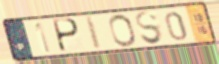0: (163, 11, 190, 42)
1: (34, 22, 52, 54)
I: (85, 15, 104, 51)
O: (107, 13, 138, 48)
P: (52, 17, 81, 54)
S: (134, 10, 165, 46)
